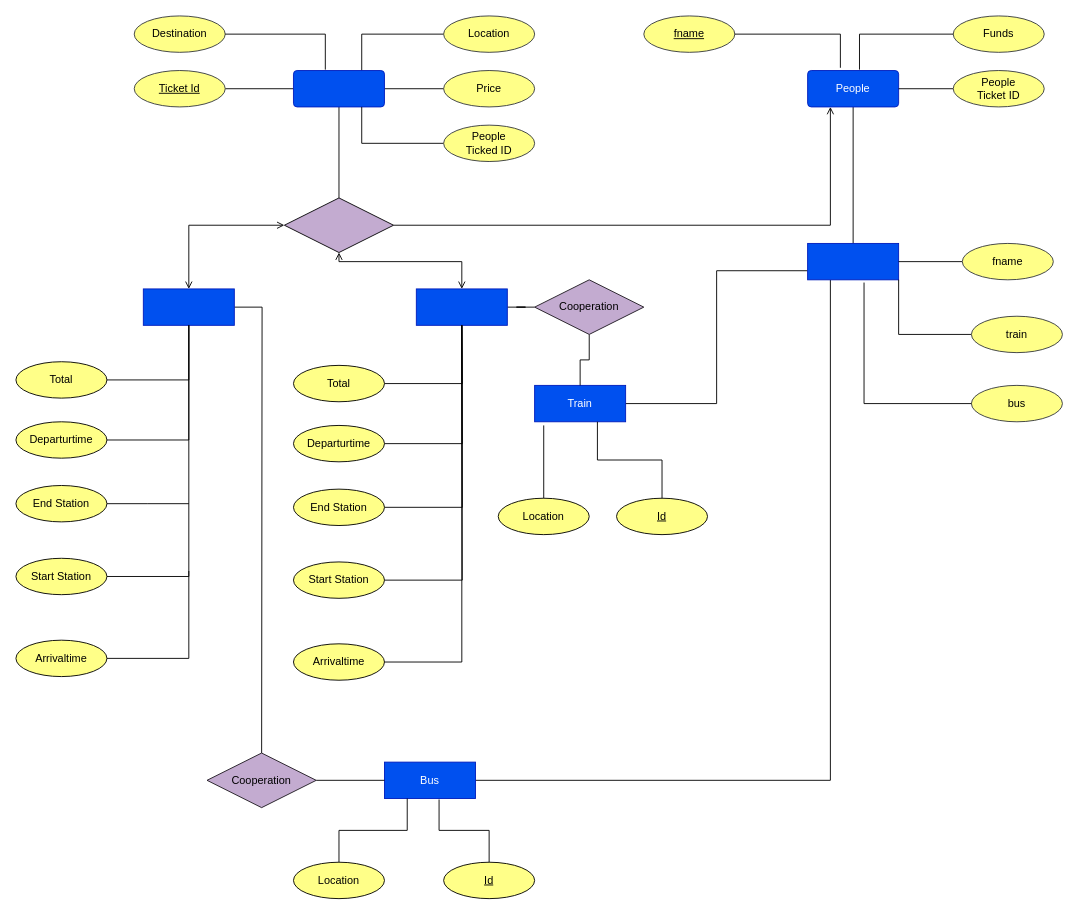
Some shapes in this 1078 by 915 pixel diagram are drawn without their labels. The centre of each missing label's shape, as x and y in pixels:
Bus Schedule: point (188, 306)
Buy: point (338, 225)
Pref erence: point (853, 261)
Ticket: point (338, 88)
Train Schedule: point (461, 306)
